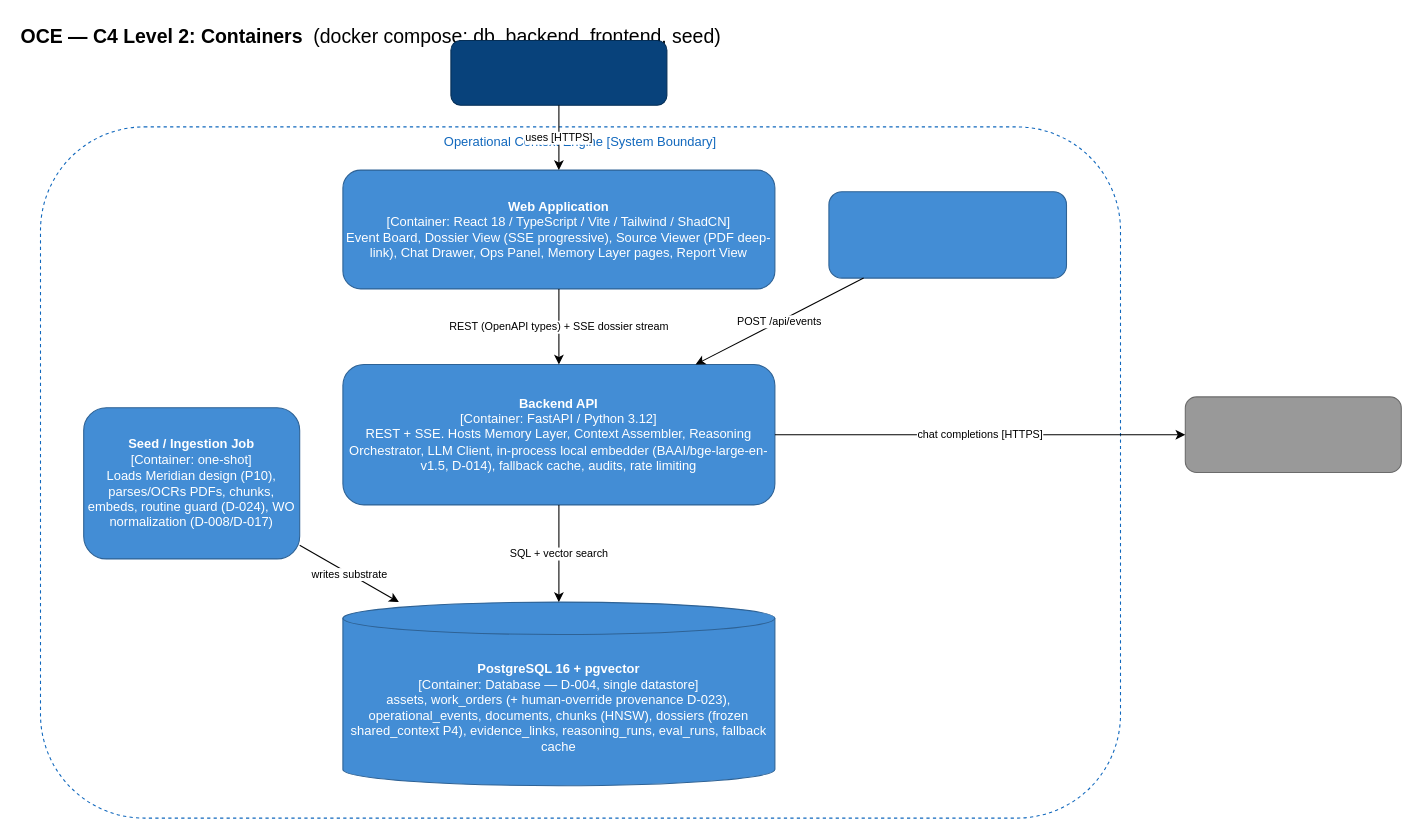
This 1420x837 diagram has some shape labels left out. The shapes that lost their labels are listed below. From the top down, each one's centre as x and y in pixels, then its label:
At (x=558, y=72): "Engineer / Operator [Person]".
At (x=947, y=234): "Event Simulator [Script] Fires canonical Operational Events (D-007/D-011)".
At (x=1292, y=434): "OpenRouter [External — optional at runtime, P9]".
